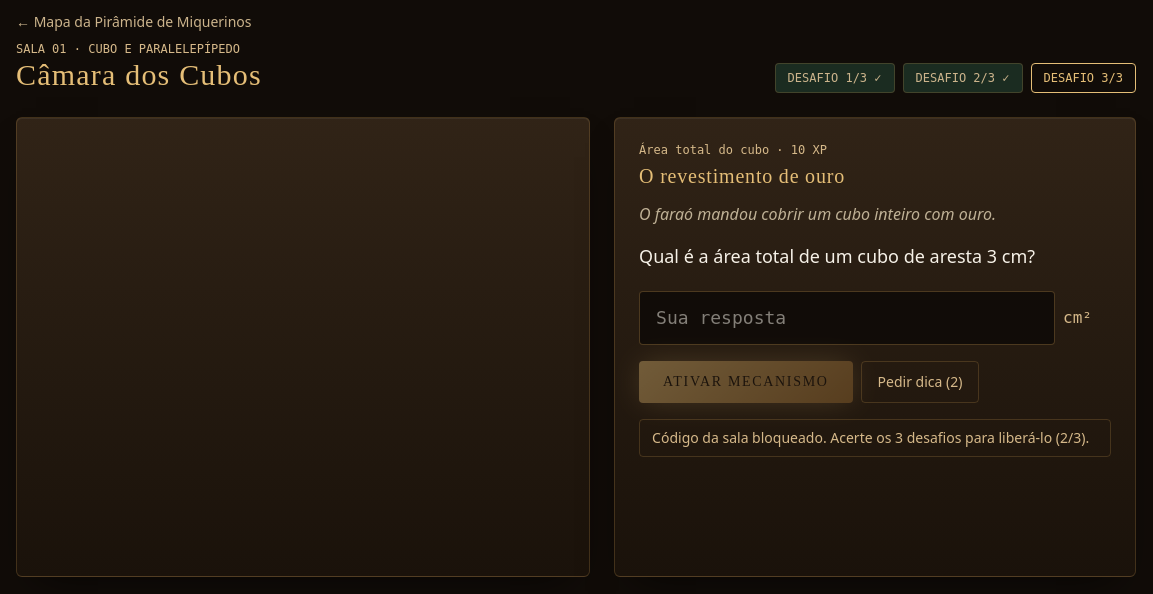
Test: Room code release › does not release the code for an incorrect final answer
The image size is (1153, 594).
Type "0" into the field with placeholder "Sua resposta".
click(847, 318); type("0")  # box [639,291,1055,345]
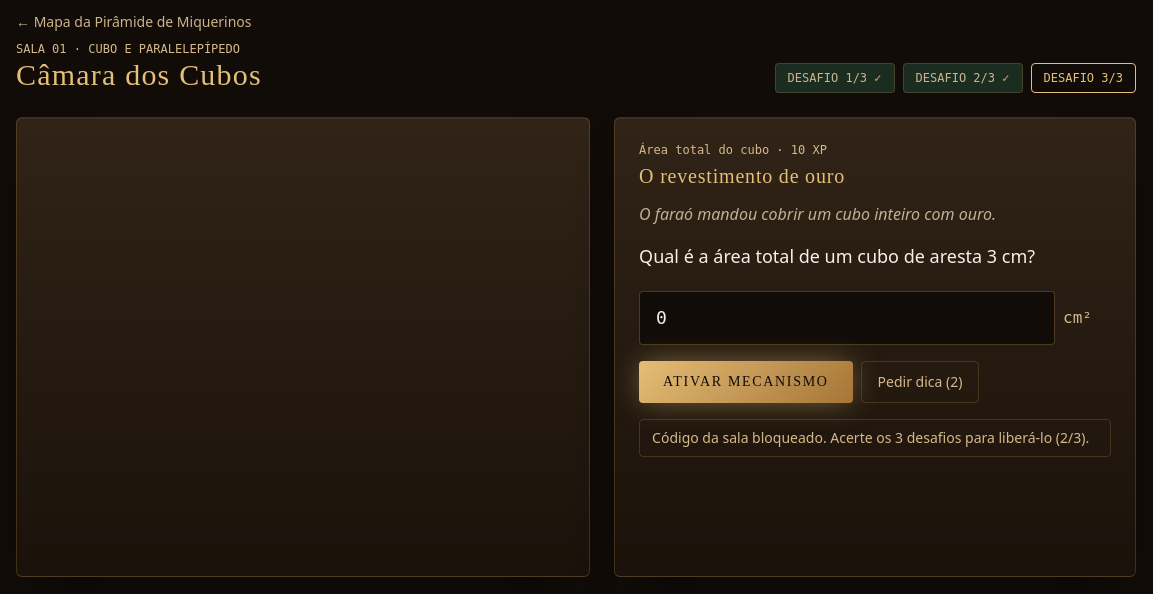
Click the button "ATIVAR MECANISMO".
click(746, 382)  # box [639,361,853,403]
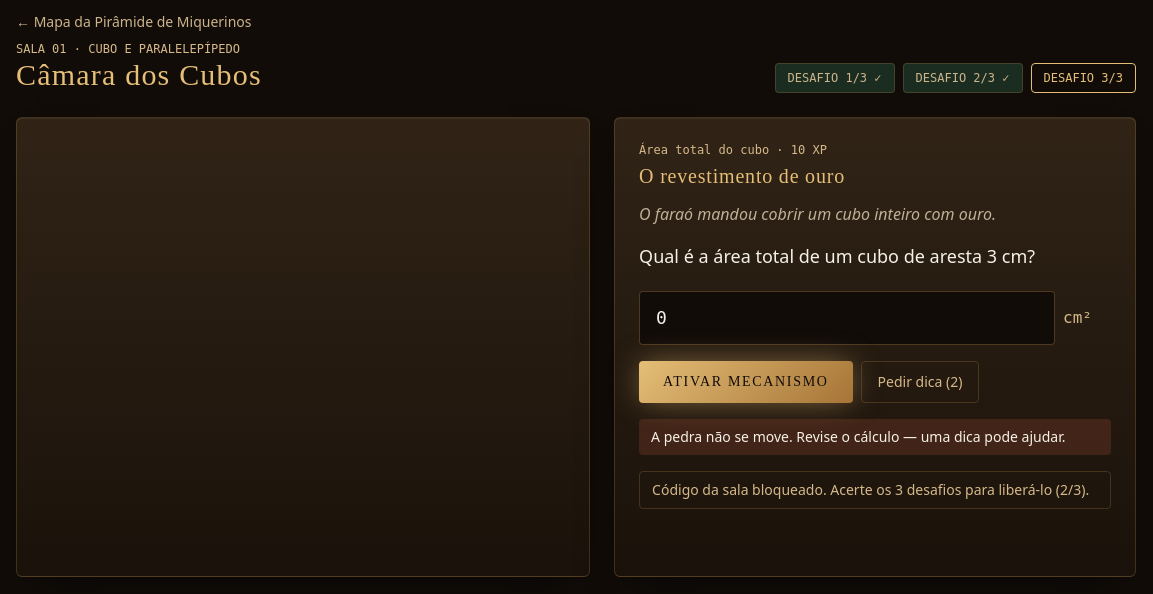
Result: the text "A pedra não se move" is shown at [651,427,1065,446]
